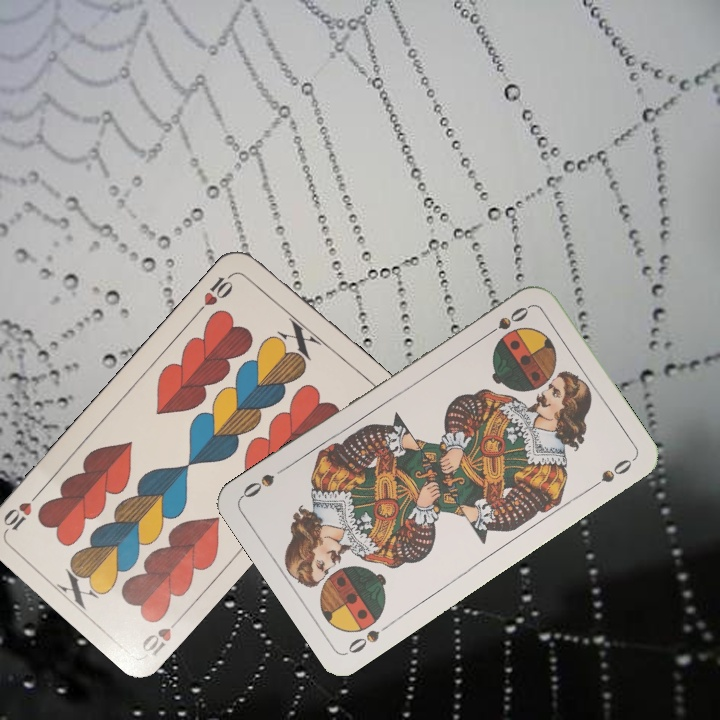H10: (138, 610, 187, 660), (194, 267, 239, 316)
SO: (343, 617, 395, 657), (480, 302, 532, 341)
